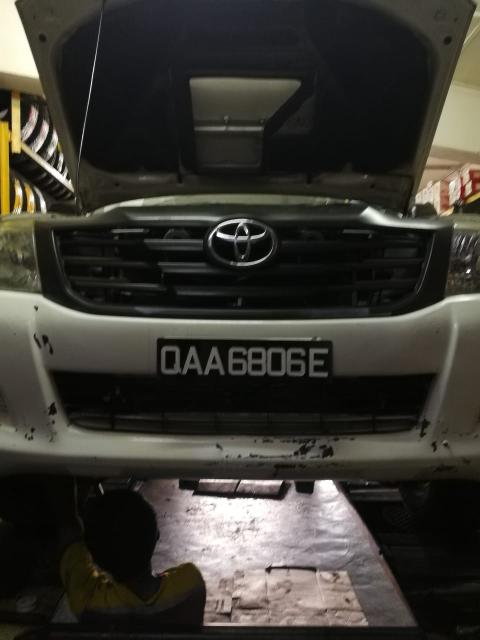License_Plate: (159, 341, 335, 388)
car: (1, 1, 480, 485)
